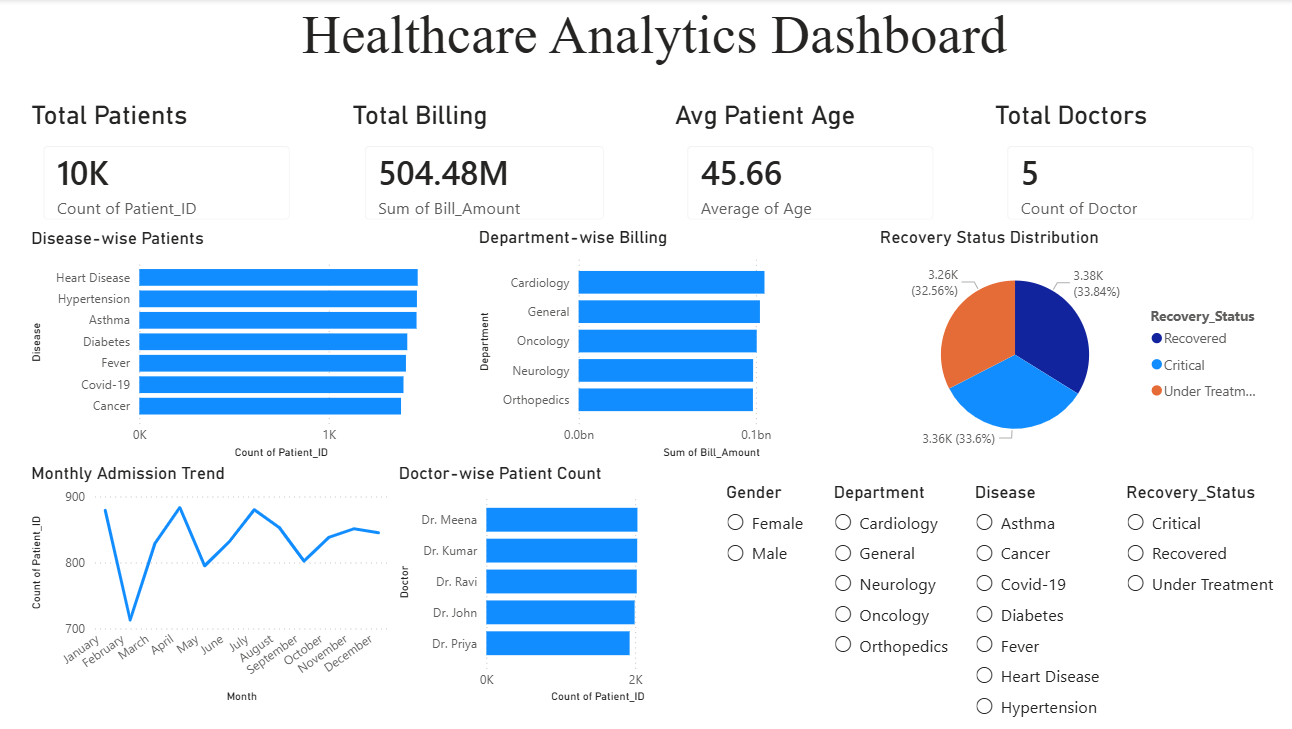

This screenshot's page, from the dashboard's own definition file:
{"tool":"powerbi","page":{"name":"Page 1","canvas":[1280,720],"ordinal":0},"visuals":[{"type":"textbox","box":[9.6,0,1270.7,72.7],"z":0},{"type":"cardVisual","title":"Total Patients","fields":{"Data":["CountNonNull(Sheet1.Patient_ID)"]},"box":[30.2,98.8,275.8,134.5],"z":1000},{"type":"cardVisual","title":"Avg Patient Age","fields":{"Data":["Avg(Sheet1.Age)"]},"box":[660,98.8,275.8,134.5],"z":2000},{"type":"cardVisual","title":"Total Doctors","fields":{"Data":["Count(Sheet1.Doctor)"]},"box":[972.9,98.8,275.8,134.5],"z":3000},{"type":"cardVisual","title":"Total Billing","fields":{"Data":["Sum(Sheet1.Bill_Amount)"]},"box":[344.4,98.8,269,134.5],"z":4000},{"type":"clusteredBarChart","title":"Disease-wise Patients","fields":{"Y":["CountNonNull(Sheet1.Patient_ID)"],"Category":["Sheet1.Disease"]},"box":[30.2,223.7,400.7,230.5],"z":5000},{"type":"clusteredBarChart","title":"Department-wise Billing","fields":{"Y":["Sum(Sheet1.Bill_Amount)"],"Category":["Sheet1.Department"]},"box":[467.9,222.3,382.8,231.9],"z":6000},{"type":"pieChart","title":"Recovery Status Distribution","fields":{"Category":["Sheet1.Recovery_Status"],"Y":["CountNonNull(Sheet1.Patient_ID)"]},"box":[860.4,222.3,388.3,231.9],"z":7000},{"type":"lineChart","title":"Monthly Admission Trend","fields":{"Category":["Sheet1.Admission_Date.Variation.Date Hierarchy.Month"],"Y":["CountNonNull(Sheet1.Patient_ID)"]},"box":[30.2,454.2,359.5,240.1],"z":8000},{"type":"clusteredBarChart","title":"Doctor-wise Patient Count","fields":{"Y":["CountNonNull(Sheet1.Patient_ID)"],"Category":["Sheet1.Doctor"]},"box":[389.7,454.2,321.1,240.1],"z":9000},{"type":"listSlicer","fields":{"Values":["Sheet1.Gender"]},"box":[710.8,472,104.3,89.2],"z":10000},{"type":"listSlicer","fields":{"Values":["Sheet1.Department"]},"box":[815.1,472,138.6,182.5],"z":10001},{"type":"listSlicer","fields":{"Values":["Sheet1.Disease"]},"box":[953.7,472,148.2,240.1],"z":10002},{"type":"listSlicer","fields":{"Values":["Sheet1.Recovery_Status"]},"box":[1101.9,472,178.4,124.9],"z":10003}]}

Visuals, with their boxes in screenshot pixels (x1, y1, x2, y2), scaled from the page's 1280x720 canvas onto the 1292x729 screenshot:
textbox: [10, 0, 1291, 74]
"Total Patients" cardVisual: [30, 100, 309, 236]
"Avg Patient Age" cardVisual: [666, 100, 945, 236]
"Total Doctors" cardVisual: [982, 100, 1260, 236]
"Total Billing" cardVisual: [348, 100, 619, 236]
"Disease-wise Patients" clusteredBarChart: [30, 226, 435, 460]
"Department-wise Billing" clusteredBarChart: [472, 225, 859, 460]
"Recovery Status Distribution" pieChart: [868, 225, 1260, 460]
"Monthly Admission Trend" lineChart: [30, 460, 393, 703]
"Doctor-wise Patient Count" clusteredBarChart: [393, 460, 717, 703]
listSlicer - Sheet1.Gender: [717, 478, 823, 568]
listSlicer - Sheet1.Department: [823, 478, 963, 663]
listSlicer - Sheet1.Disease: [963, 478, 1112, 721]
listSlicer - Sheet1.Recovery_Status: [1112, 478, 1291, 604]
